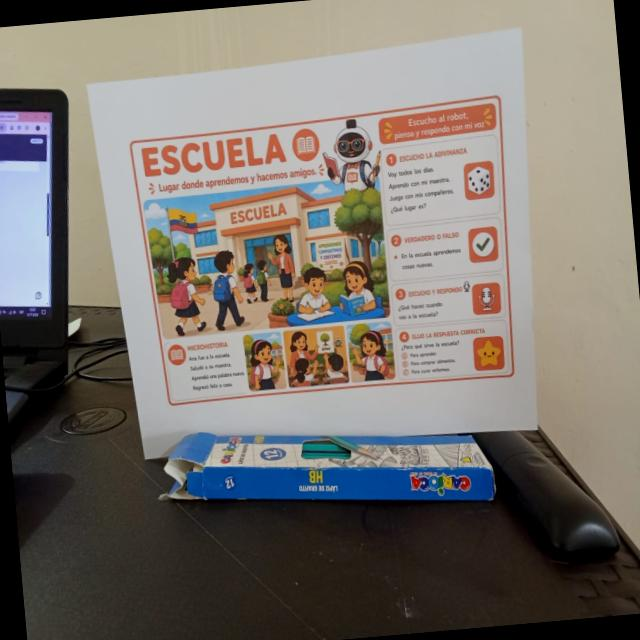escuela: (124, 90, 529, 412)
